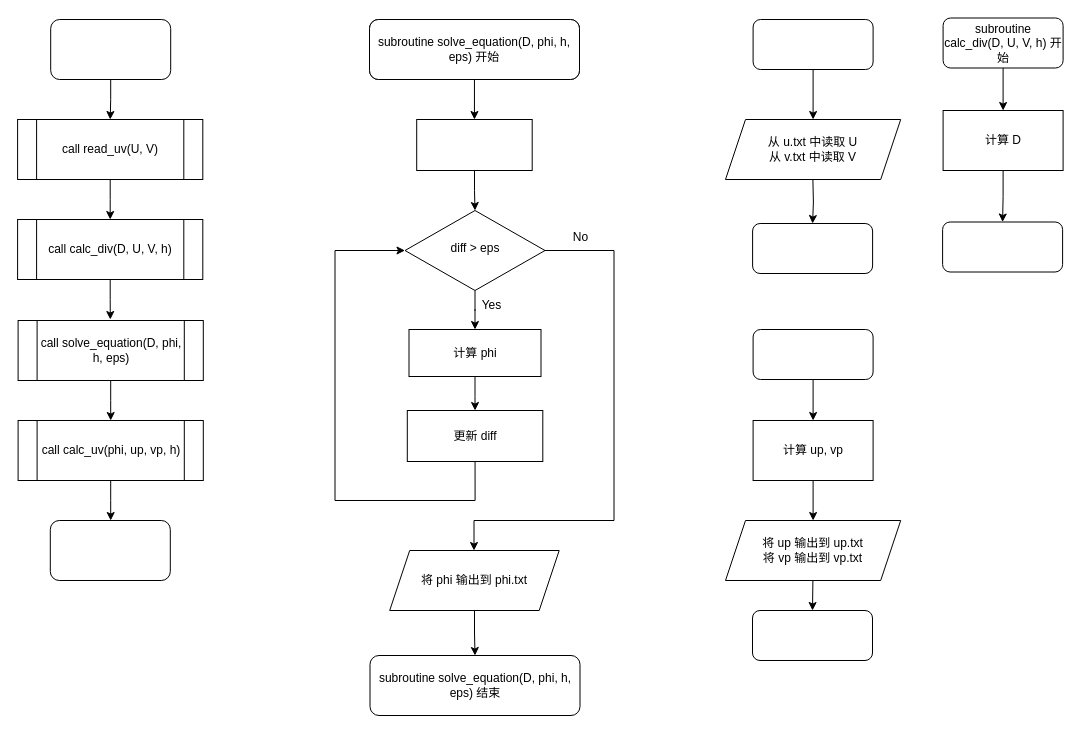
Some shapes in this 1081 by 733 pixel diagram are drawn without their labels. The shapes that lost their labels are listed below. From the top down, each one's centre as x and y in pixels, then its label:
(x=110, y=49): program jsff7 开始
(x=812, y=44): subroutine read_uv(U, V) 开始
(x=474, y=144): 初始化 phi
(x=812, y=248): subroutine read_uv(U, V) 结束
(x=1002, y=246): subroutine calc_div(D, U, V, h) 结束
(x=812, y=354): subroutine calc_uv(phi, up, vp, h) 开始
(x=109, y=550): program jsff7 结束
(x=812, y=635): subroutine calc_uv(phi, up, vp, h) 结束
